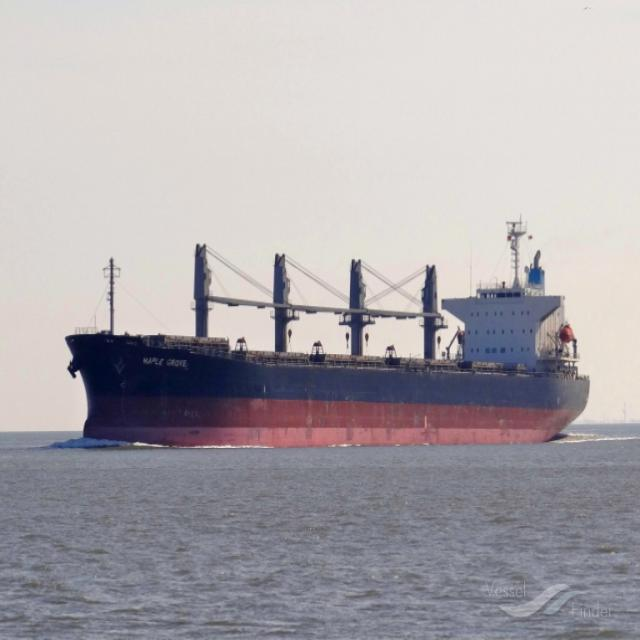OCR: (143, 349, 191, 375)
